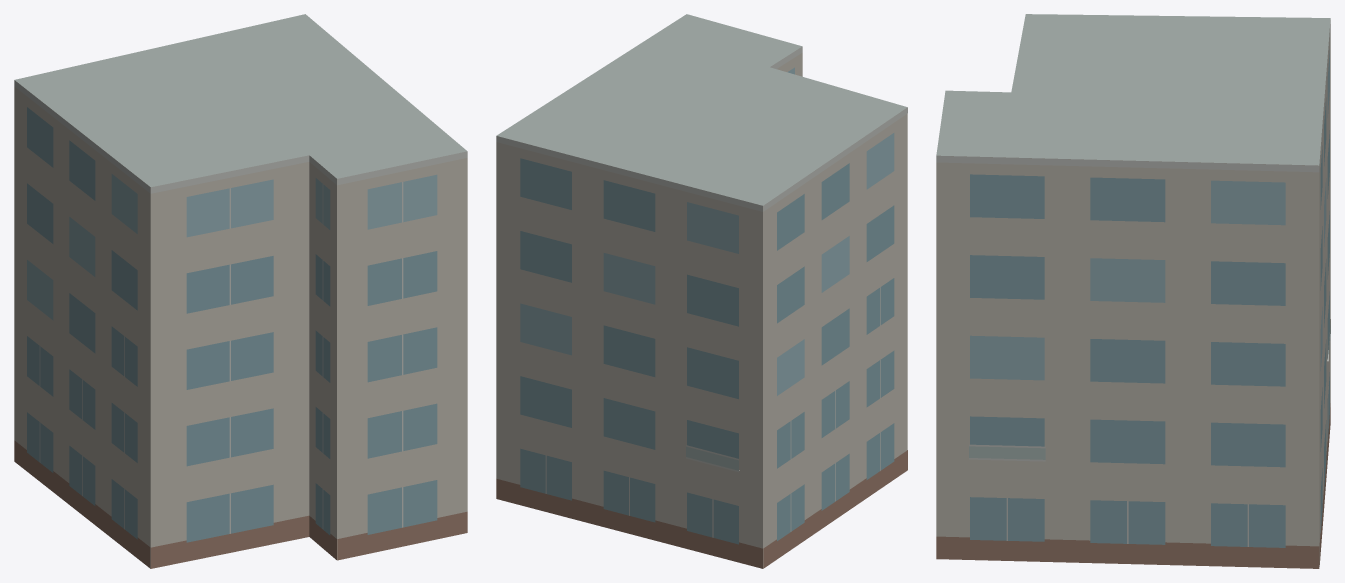
File: survey-upis-32867884.glb
3 renders of one model, left to right at view 1: azimuth 30°, elevation 25°; view 2: azimuth 150°, elevation 25°; view 3: azimuth 270°, elevation 25°, orthographic. The views are drawn at different scales.
Visible parts, largest first — view 1: survey-upis-32867884.tmp; view 2: survey-upis-32867884.tmp; view 3: survey-upis-32867884.tmp.
Boxes of the visible parts, x1=… form: survey-upis-32867884.tmp: x1=14, y1=14, x2=467, y2=568; survey-upis-32867884.tmp: x1=496, y1=14, x2=907, y2=568; survey-upis-32867884.tmp: x1=936, y1=14, x2=1330, y2=568.
Bounding box in the file's own units: 11.61 × 14.4 × 12.77.
